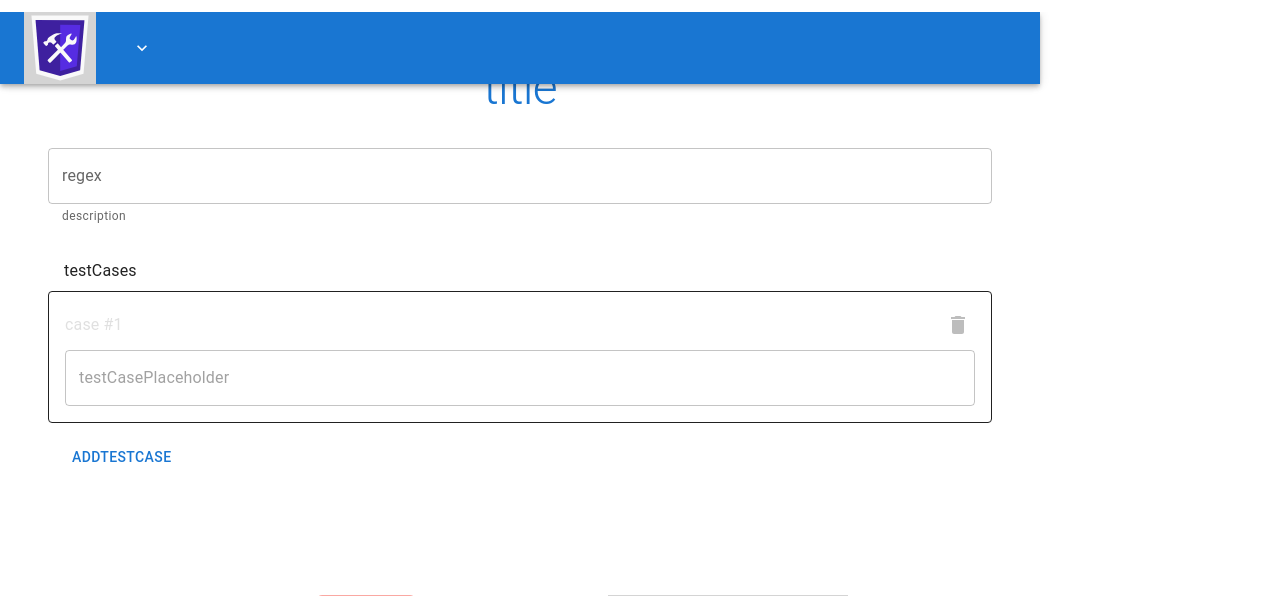
Regex Tester › can match a regular expression with flags
Type "/Dog/i" into the field labelled "regex".
click(520, 176); type("/Dog/i")  # box [48, 148, 992, 204]
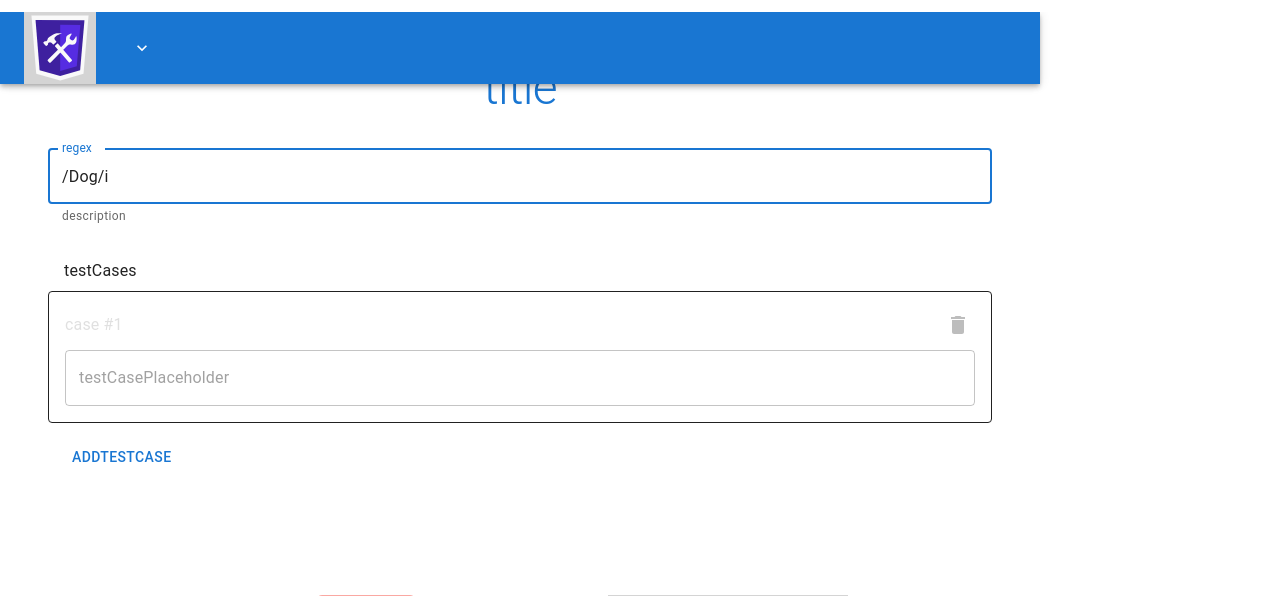
Type "dog" into the element with test id "editor-latitude".
click(520, 378); type("dog")  # box [65, 350, 975, 406]
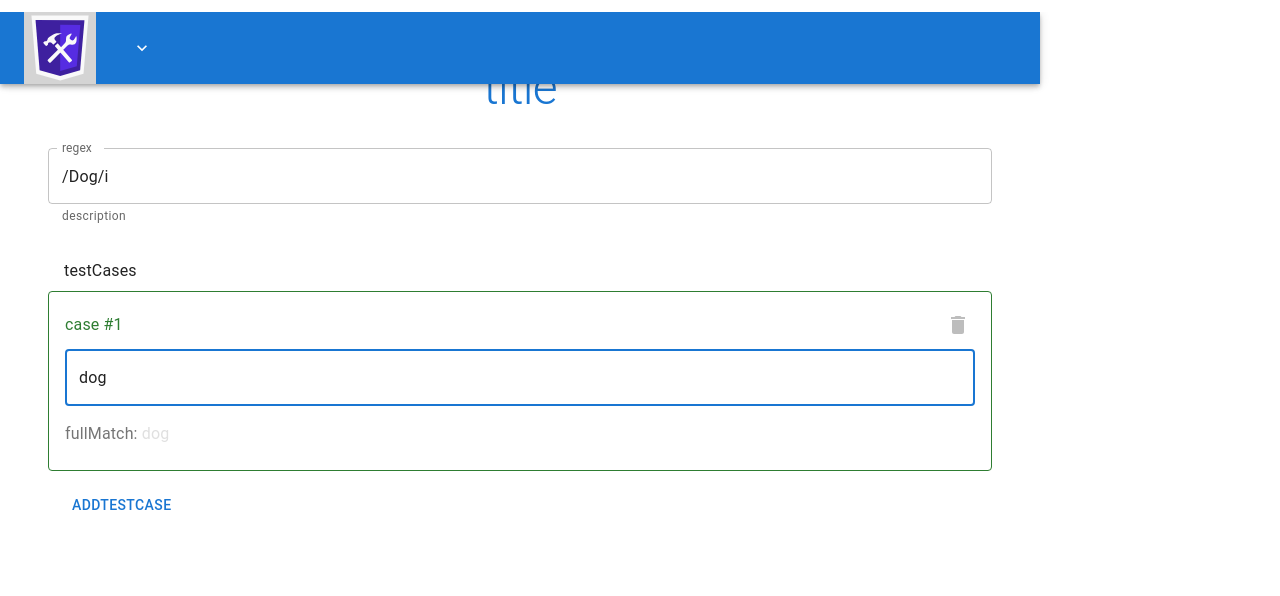
Check: the element with test id "match-result" reads "fullMatch: dog", box [65, 424, 169, 443]
